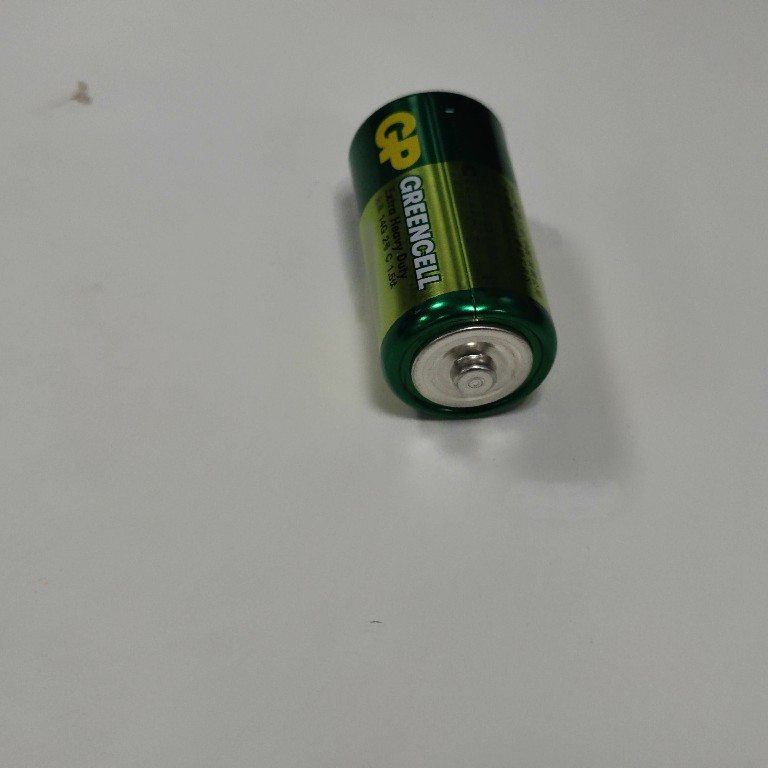charge: (338, 80, 570, 423)
